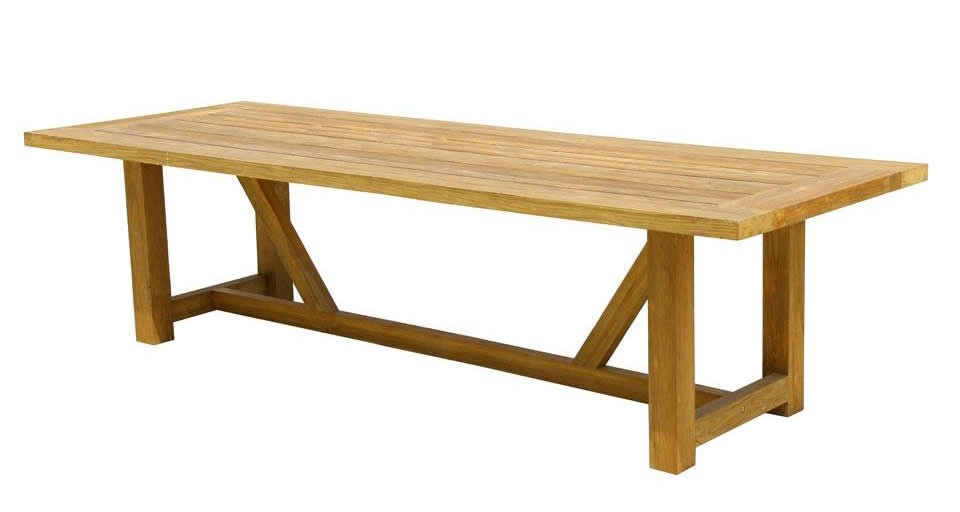Carving Table: (38, 83, 938, 485)
